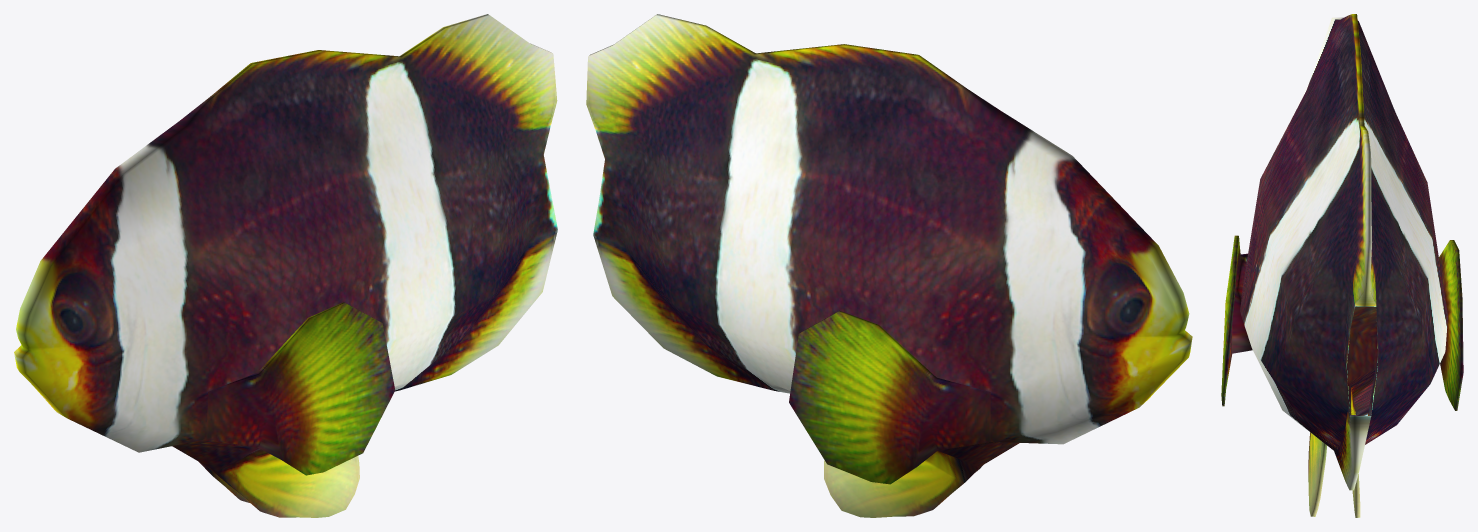
The model's file is cuerpoPez.obj.
The picture shows the model from 3 angles, left to right: view 1: azimuth 30°, elevation 25°; view 2: azimuth 150°, elevation 25°; view 3: azimuth 270°, elevation 25°; orthographic projection. The views are drawn at different scales.
Parts seen in each view (by area): view 1: polySurface1 TropicalFish11; view 2: polySurface1 TropicalFish11; view 3: polySurface1 TropicalFish11.
Part boxes in pixels (x1=…): polySurface1 TropicalFish11: x1=14, y1=14, x2=557, y2=517; polySurface1 TropicalFish11: x1=586, y1=14, x2=1192, y2=517; polySurface1 TropicalFish11: x1=1221, y1=14, x2=1463, y2=517.
Size of the model in its own units: 1.51 by 1.17 by 0.5469.
Materials: 1 (1 with a texture image).
